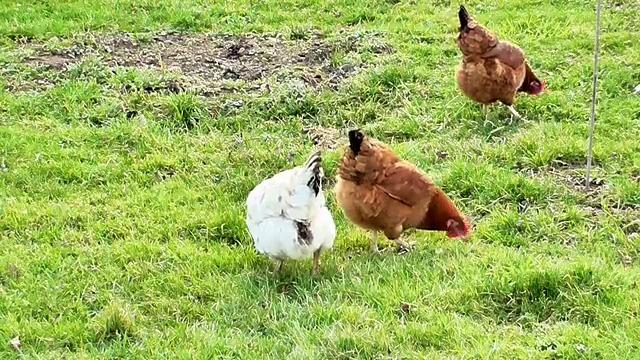Normal: (341, 126, 474, 243), (451, 6, 547, 123), (238, 158, 336, 272)
